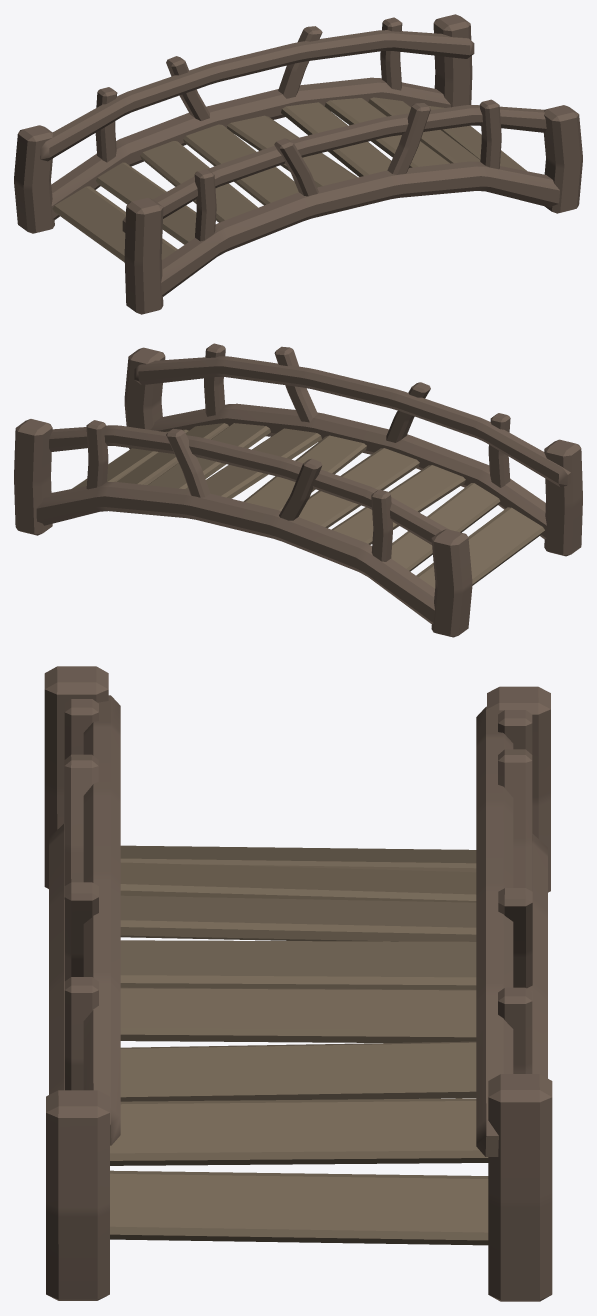
Rendered from Brug.fbx.
3 renders of one model, top to bottom at view 1: azimuth 30°, elevation 25°; view 2: azimuth 150°, elevation 25°; view 3: azimuth 270°, elevation 25°, orthographic. The views are drawn at different scales.
Parts seen in each view (by area): view 1: polySurface941; view 2: polySurface941; view 3: polySurface941.
Part boxes in pixels (<box>): polySurface941: <box>14,14,582,314</box>; polySurface941: <box>14,343,582,637</box>; polySurface941: <box>44,666,552,1301</box>.
Size of the model in its own units: 4.16 by 1.21 by 2.04.
